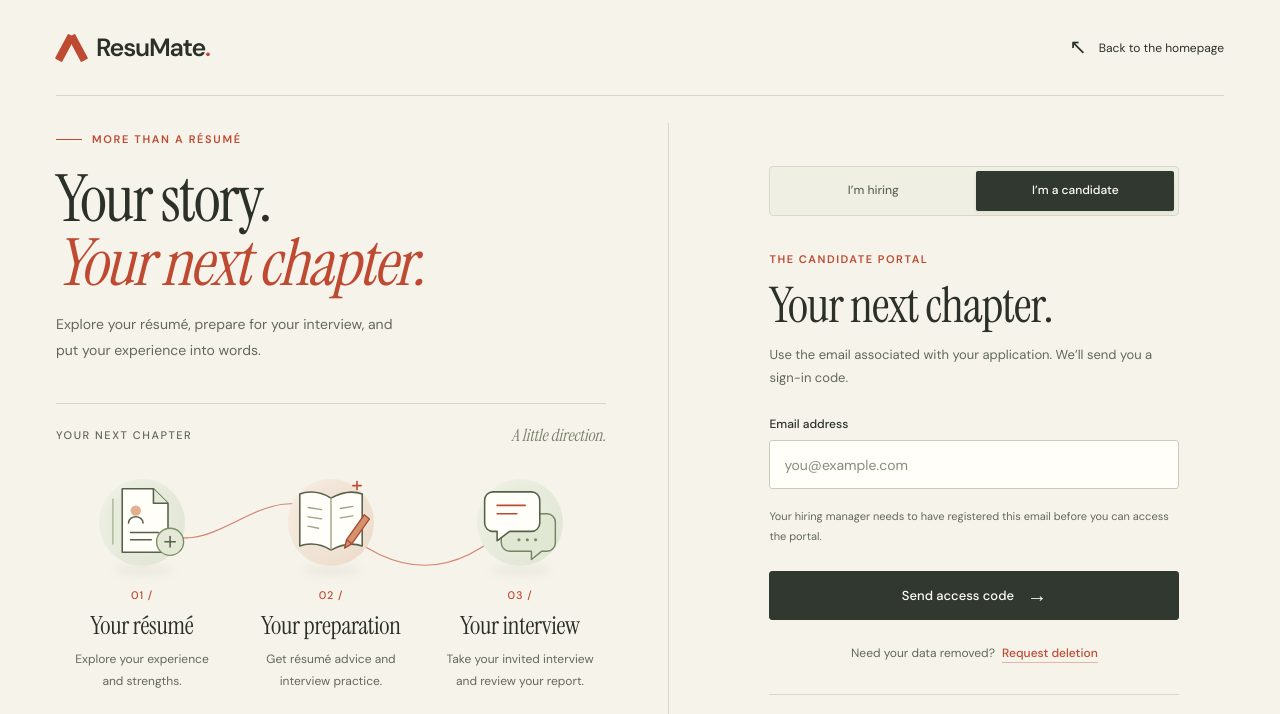
Test: fields say what they are for › the candidate's sign-in
In the field labelled "Email address": (974, 465) [769,440,1179,489], type "dana@x.com"
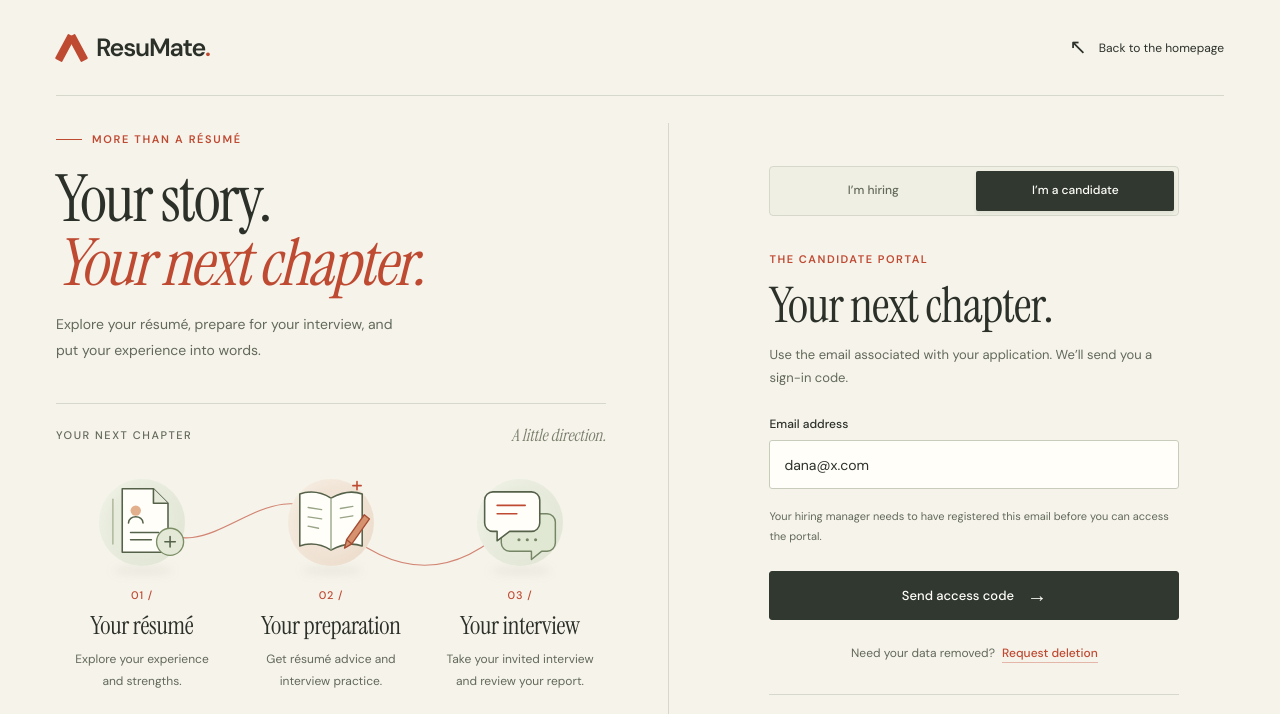
Click the button "Send access code →": click(974, 595) [769,571,1179,620]
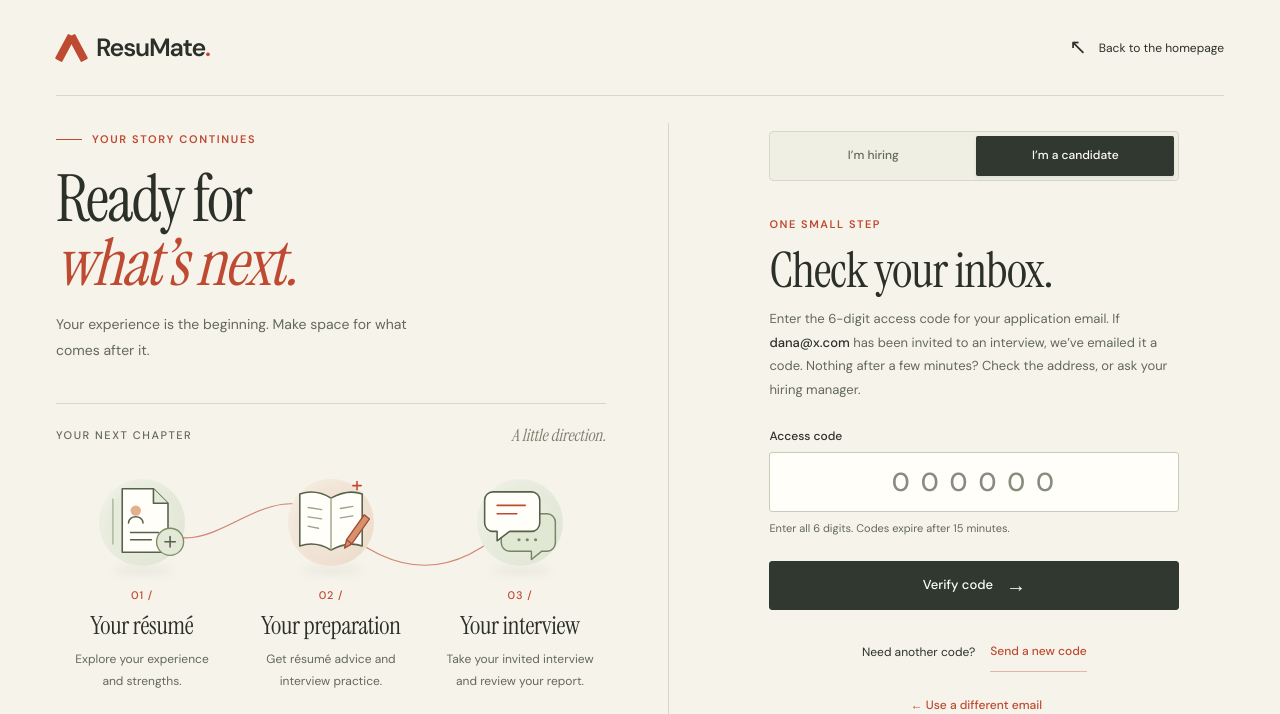
expect the field labelled "Access code" is shown: met, box [769,452,1179,512]
